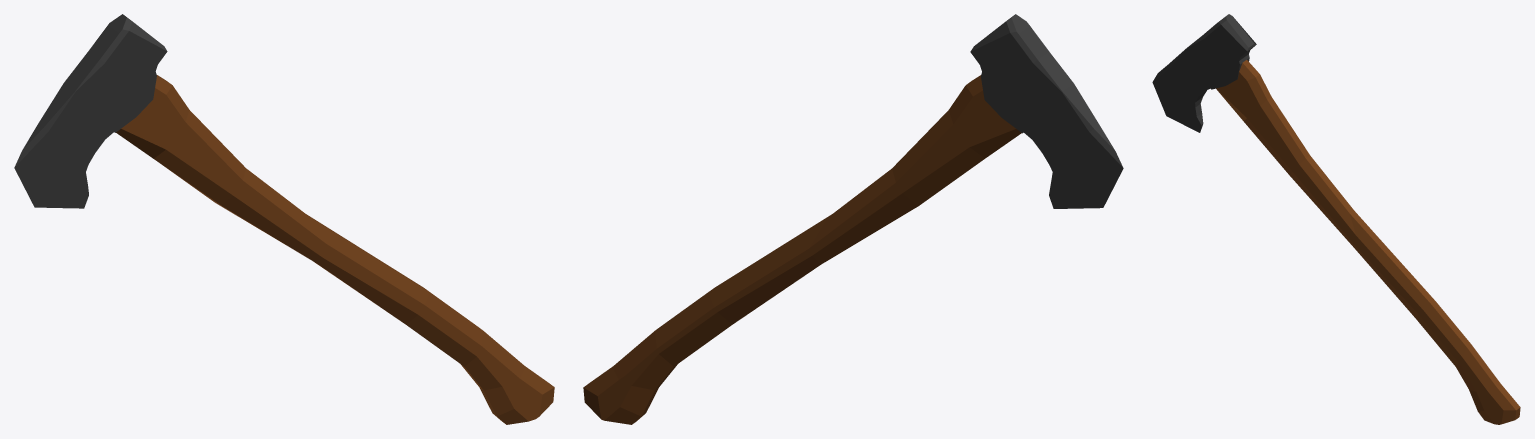
Rendered from axe.fbx.
The picture shows the model from 3 angles, left to right: view 1: azimuth 30°, elevation 25°; view 2: azimuth 150°, elevation 25°; view 3: azimuth 330°, elevation 25°; orthographic projection. The views are drawn at different scales.
Parts seen in each view (by area): view 1: Handle, Blade; view 2: Handle, Blade; view 3: Handle, Blade.
Boxes of the visible parts, x1=… form: Handle: x1=116, y1=75, x2=554, y2=424; Blade: x1=14, y1=14, x2=167, y2=208; Handle: x1=583, y1=75, x2=1021, y2=424; Blade: x1=970, y1=14, x2=1123, y2=208; Handle: x1=1216, y1=60, x2=1520, y2=424; Blade: x1=1152, y1=14, x2=1256, y2=132.
Size of the model in its own units: 443 by 394 by 20.45.
